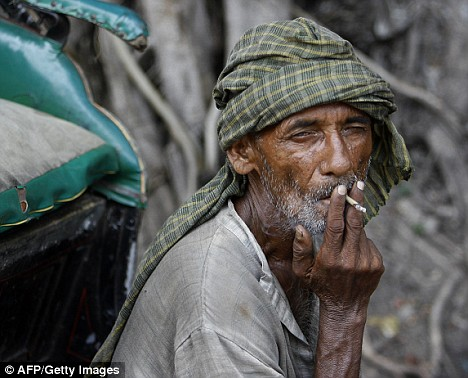cigarette: (341, 190, 372, 216)
